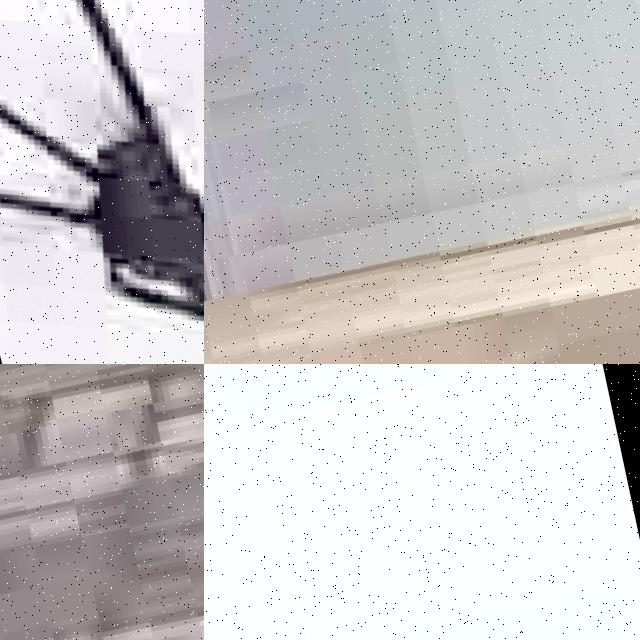drone: (0, 0, 204, 364)
